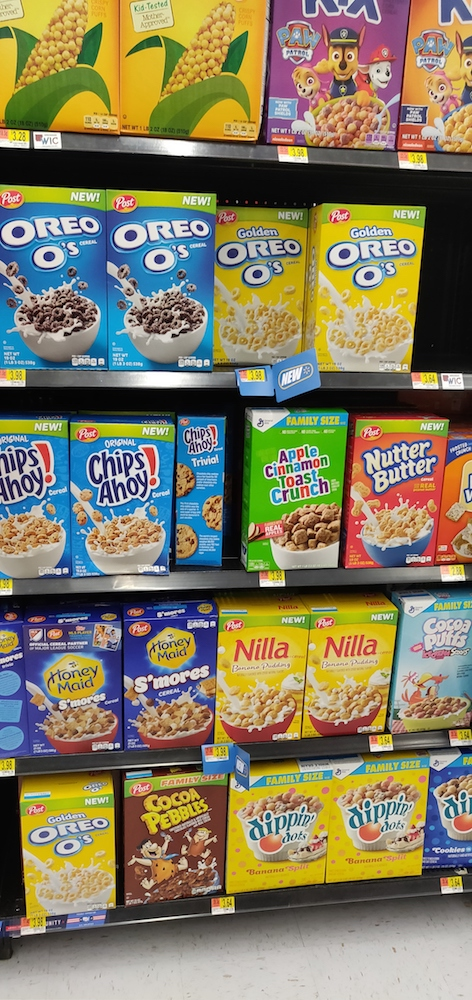Chips Ahoys-565717529: (64, 415, 173, 574), (3, 421, 79, 579)
Cocoa Pebbles-555517893: (123, 772, 228, 898)
Cocoa Puffs Ice Cream-563408546: (402, 600, 472, 716)
Dippin Dots Banana-568929376: (227, 772, 328, 885), (332, 760, 419, 879)
Honey Maid Graham -563424385: (22, 619, 117, 752), (122, 622, 214, 743)
Nilla -568301014: (305, 613, 398, 741), (216, 609, 305, 739)
Nutter Butter-565717511: (350, 415, 439, 563)
Oreo Golden-568301011: (313, 201, 418, 371), (15, 791, 124, 915)
Oreo-563424384: (100, 184, 215, 375), (1, 180, 112, 370), (216, 204, 313, 376)
